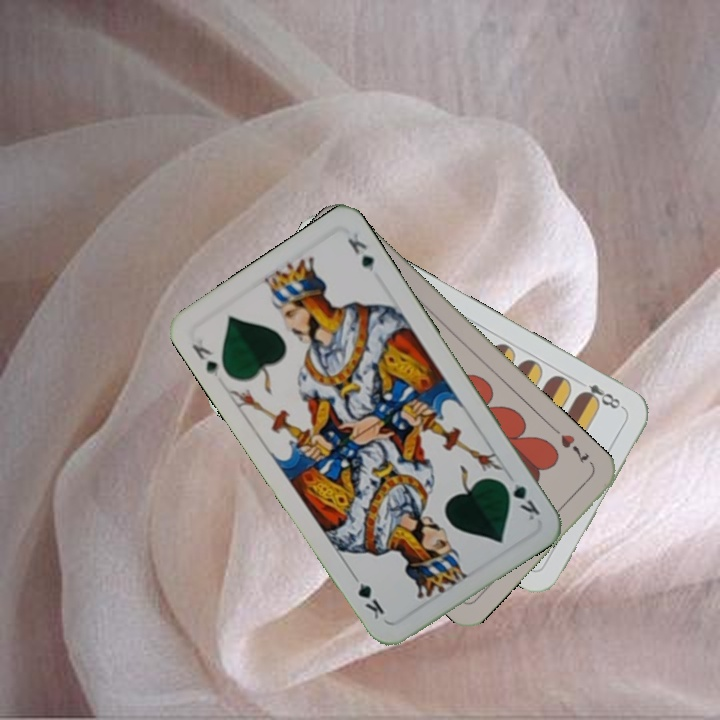E8: (575, 380, 627, 412)
GK: (497, 476, 543, 523), (188, 340, 221, 380)
H7: (549, 424, 592, 466)
